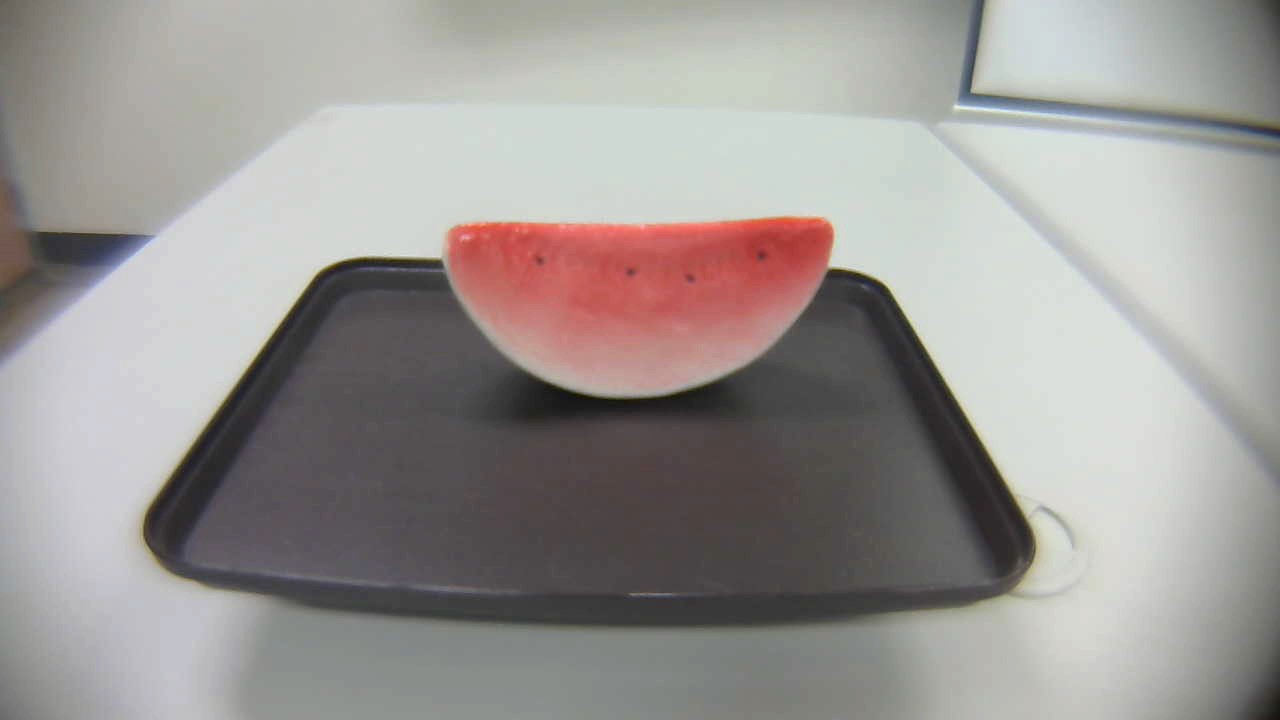water melon: (436, 216, 843, 401)
